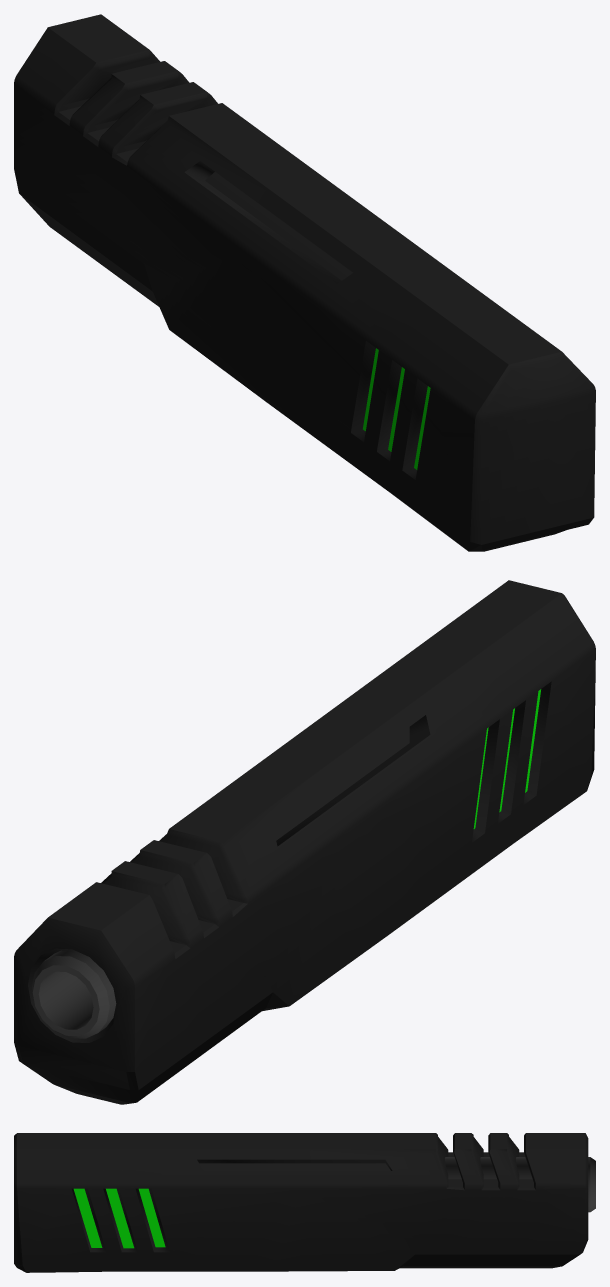
File: Msh_Barrel_A.FBX
3 views of the same model, one above another, from view 1: azimuth 30°, elevation 25°; view 2: azimuth 150°, elevation 25°; view 3: azimuth 270°, elevation 25° (orthographic). The views are drawn at different scales.
Parts seen in each view (by area): view 1: Body; view 2: Body; view 3: Body.
Part boxes in pixels (x1,y1,x2,y2): Body: (14, 14, 595, 551); Body: (14, 580, 595, 1104); Body: (14, 1133, 595, 1272).
Size of the model in its own units: 3.68 by 24.84 by 5.7.
